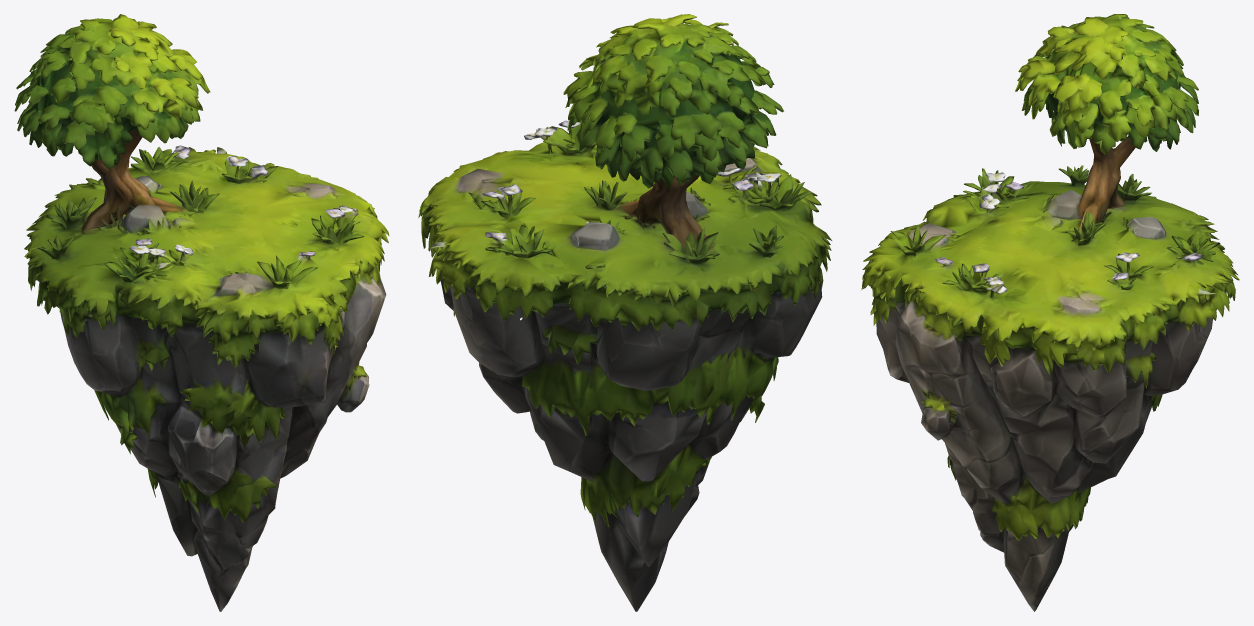
File: 03-orbit-islet-tree.glb
3 views of the same model, side by side, from view 1: azimuth 30°, elevation 25°; view 2: azimuth 150°, elevation 25°; view 3: azimuth 270°, elevation 25° (orthographic). The views are drawn at different scales.
Visible parts, largest first — view 1: tripo_node_72dd8a82-fa61-44e9-9d06-158074cba973; view 2: tripo_node_72dd8a82-fa61-44e9-9d06-158074cba973; view 3: tripo_node_72dd8a82-fa61-44e9-9d06-158074cba973.
Part boxes in pixels (left/top/right/bottom): tripo_node_72dd8a82-fa61-44e9-9d06-158074cba973: left=14, top=14, right=389, bottom=611; tripo_node_72dd8a82-fa61-44e9-9d06-158074cba973: left=418, top=14, right=831, bottom=611; tripo_node_72dd8a82-fa61-44e9-9d06-158074cba973: left=861, top=14, right=1239, bottom=611.
Size of the model in its own units: 0.5949 by 0.9787 by 0.6015.
1 material, 1 textured.
